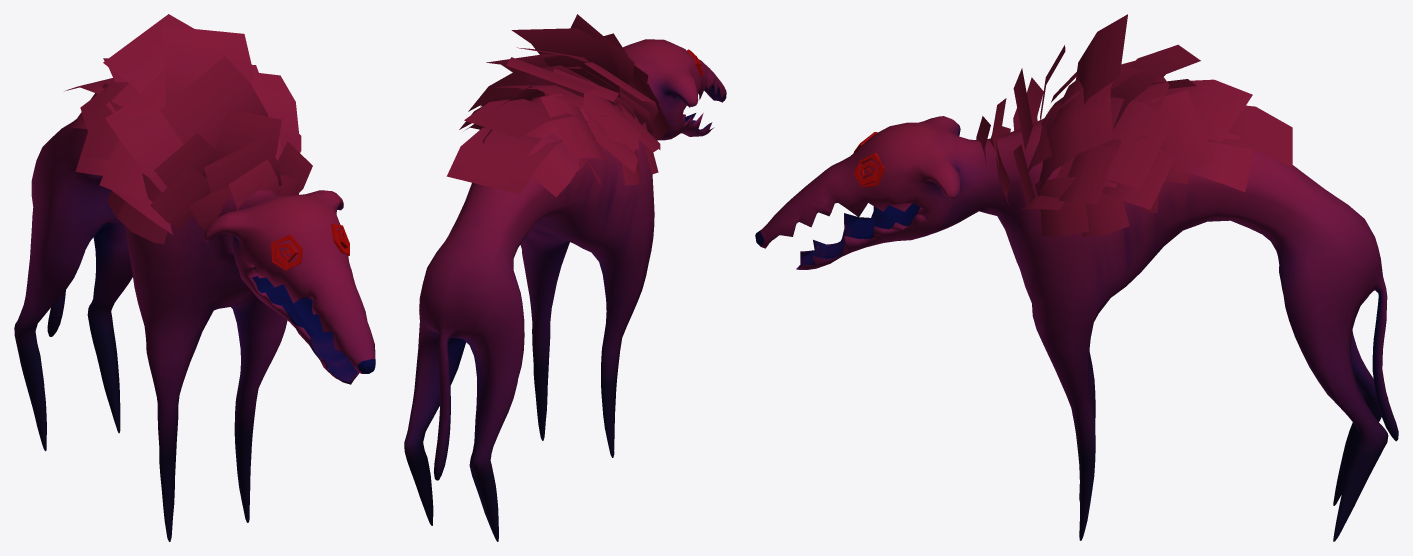
Rendered from DogWithFur.fbx.
The picture shows the model from 3 angles, left to right: view 1: azimuth 30°, elevation 25°; view 2: azimuth 150°, elevation 25°; view 3: azimuth 270°, elevation 25°; orthographic projection. The views are drawn at different scales.
Visible parts, largest first — view 1: Dog_low, Fur1, R_eye; view 2: Dog_low, Fur1; view 3: Dog_low, Fur1.
Boxes of the visible parts, box(x1,y1,x2,y2) form: Dog_low: box(14, 119, 375, 541); Fur1: box(64, 14, 312, 244); R_eye: box(271, 234, 302, 270); Dog_low: box(404, 39, 726, 541); Fur1: box(446, 14, 670, 196); Dog_low: box(755, 116, 1398, 541); Fur1: box(976, 14, 1292, 237).
Size of the model in its own units: 2.89 by 6.79 by 7.95.
